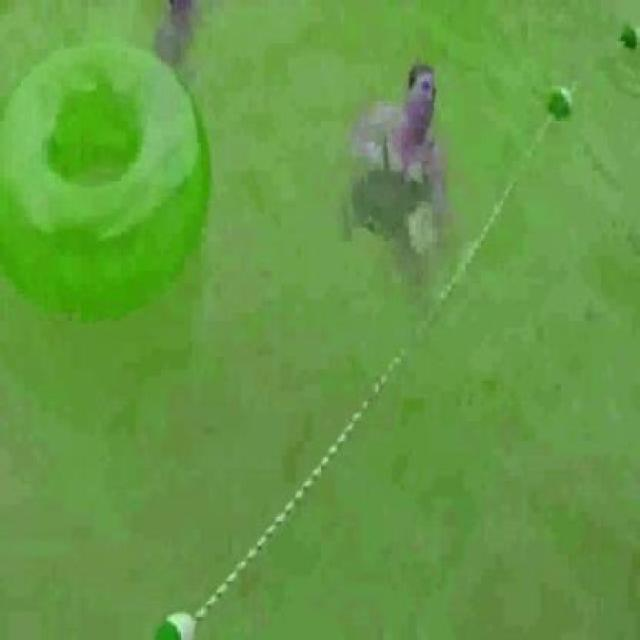drowning: (345, 43, 437, 255)
